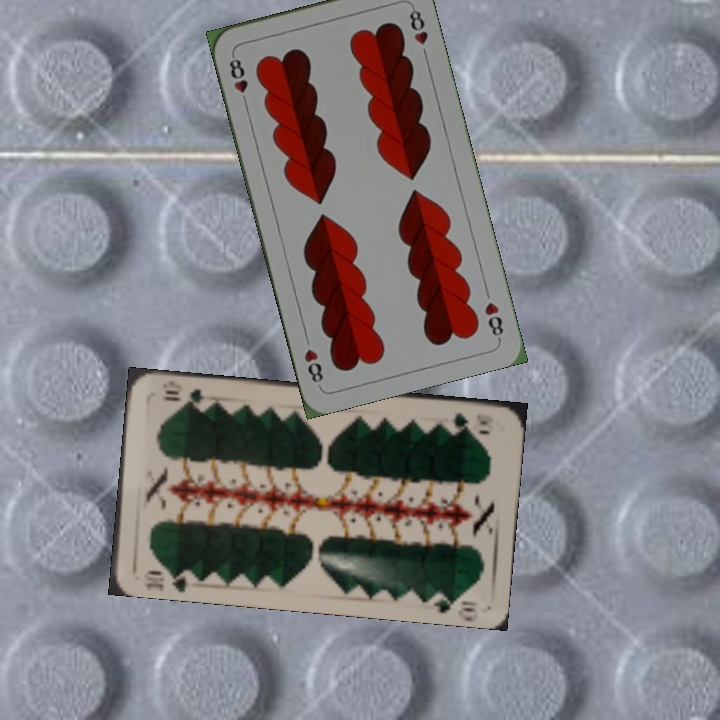G10: (140, 564, 195, 593), (449, 409, 490, 432)
H8: (225, 50, 251, 108), (480, 284, 506, 342)
